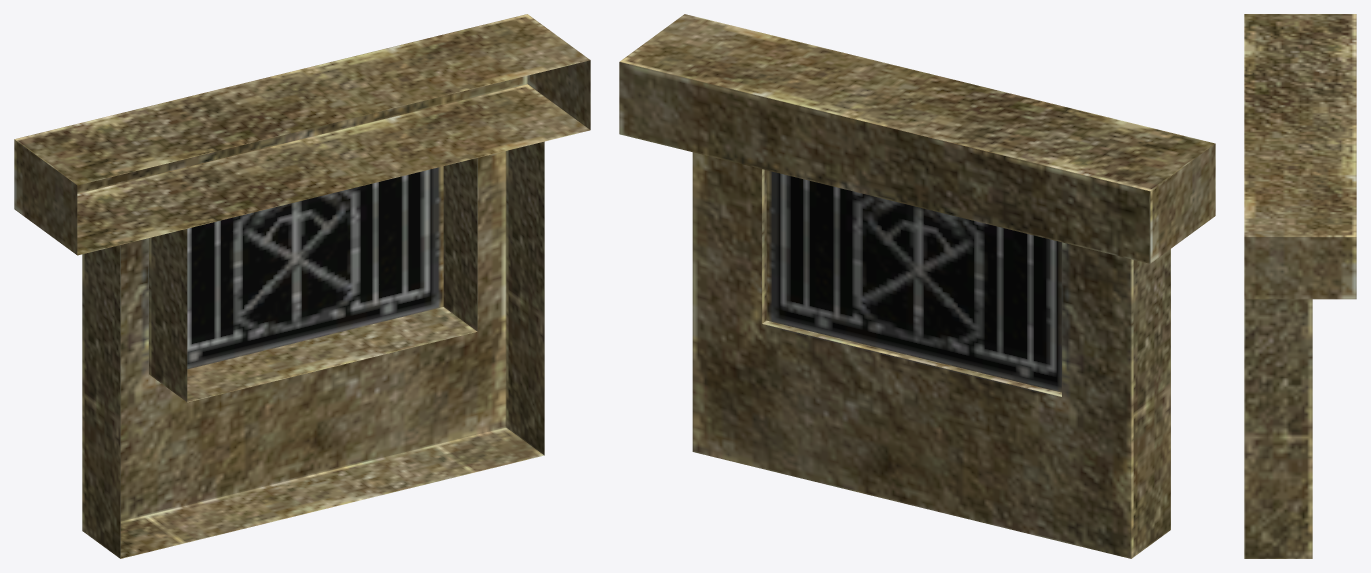
Rendered from hrt_window3.glb.
3 renders of one model, left to right at view 1: azimuth 30°, elevation 25°; view 2: azimuth 150°, elevation 25°; view 3: azimuth 270°, elevation 25°, orthographic. The views are drawn at different scales.
Visible parts, largest first — view 1: hrt_window3; view 2: hrt_window3; view 3: hrt_window3.
Boxes of the visible parts, box(x1,y1,x2,y2) form: hrt_window3: box(14, 14, 590, 558); hrt_window3: box(619, 14, 1215, 558); hrt_window3: box(1244, 14, 1356, 558).
Bounding box in the file's own units: 1.69 × 1.21 × 0.3613.
Materials: 1 (1 with a texture image).
